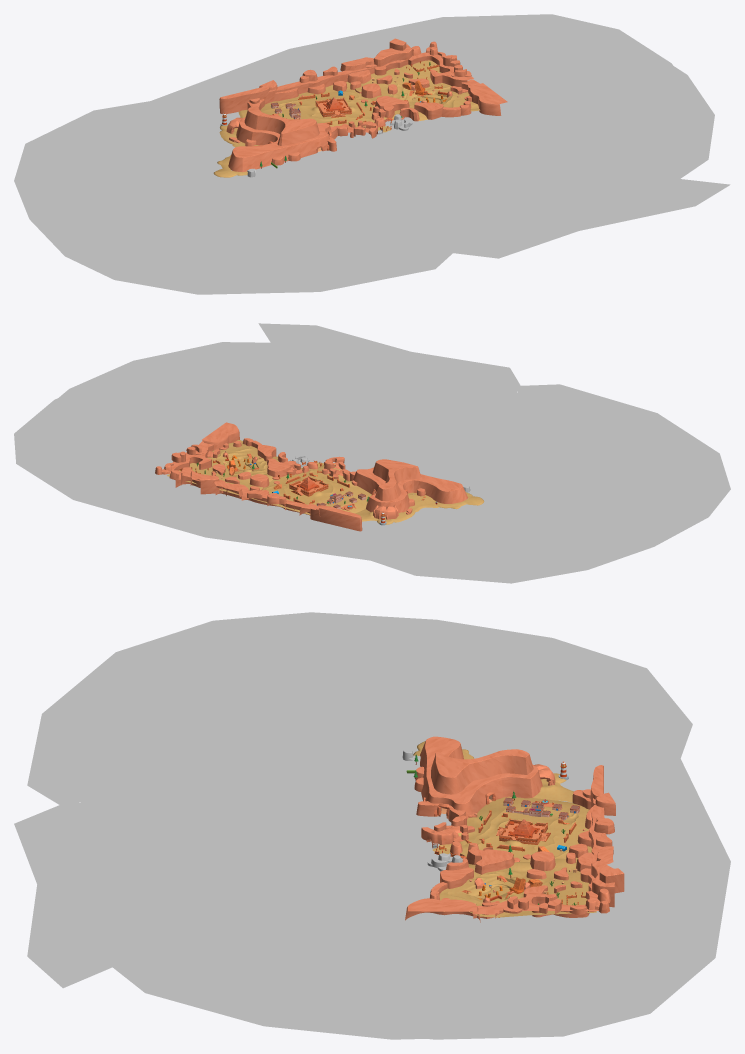
File: Terrain_V2.fbx
3 renders of one model, top to bottom at view 1: azimuth 30°, elevation 25°; view 2: azimuth 150°, elevation 25°; view 3: azimuth 270°, elevation 25°, orthographic. The views are drawn at different scales.
Parts seen in each view (by area): view 1: Cargo3_LOD0_2; view 2: Cargo3_LOD0_2; view 3: Cargo3_LOD0_2.
Part boxes in pixels (x1=…): Cargo3_LOD0_2: x1=14, y1=14, x2=730, y2=294; Cargo3_LOD0_2: x1=14, y1=323, x2=730, y2=583; Cargo3_LOD0_2: x1=14, y1=612, x2=730, y2=1039.
Bounding box in the file's own units: 363 × 15.65 × 258.
